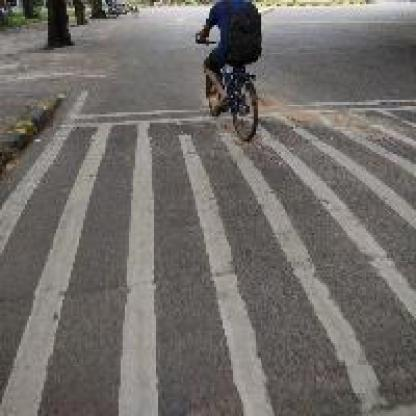Speed Bump: (0, 102, 206, 414), (258, 98, 414, 414)
